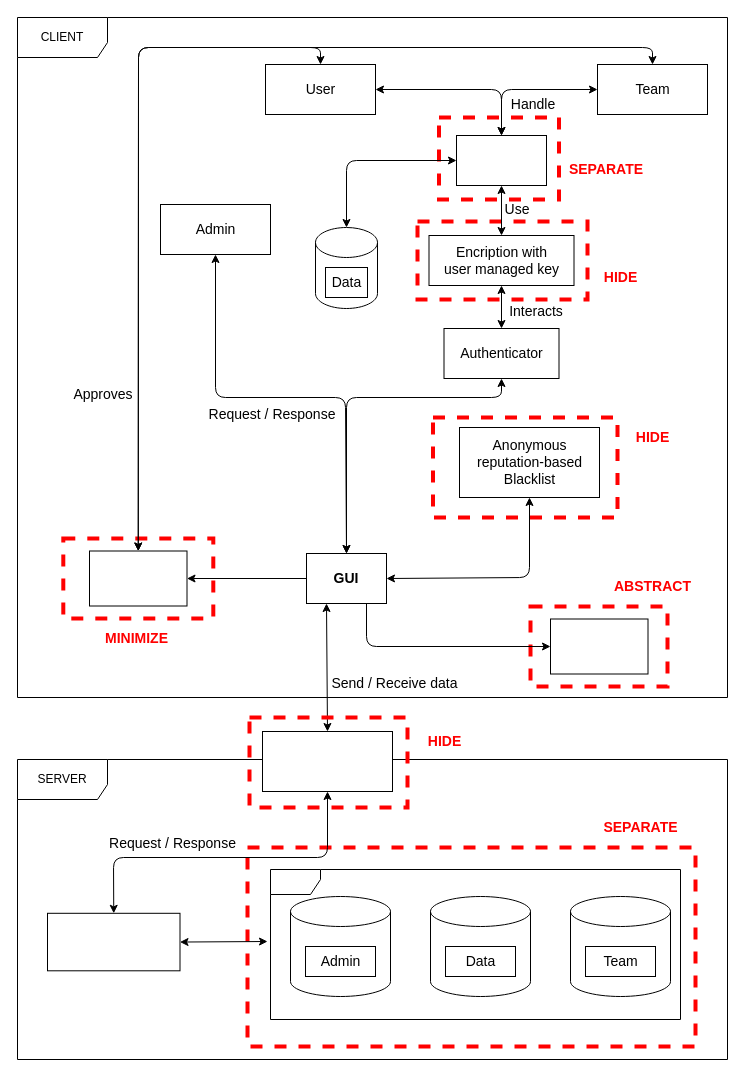
Image size: 745x1077. Some labels were removed from this diagram. Each missing label, with the box of its shape:
DB: (270, 868, 680, 1020)
Location granularity: (550, 618, 648, 674)
Metadata Manager: (88, 550, 187, 606)
Onion Routing: (262, 730, 392, 792)
Personal Data Store: (456, 134, 546, 186)
Web Accessible Files (web server): (46, 912, 180, 971)
